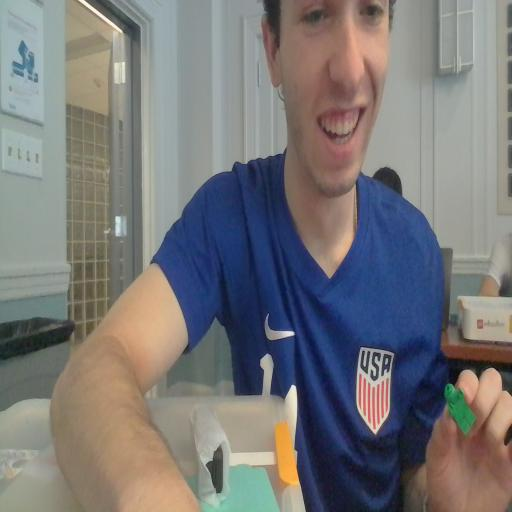green LEGO minifig: (443, 380, 478, 436)
